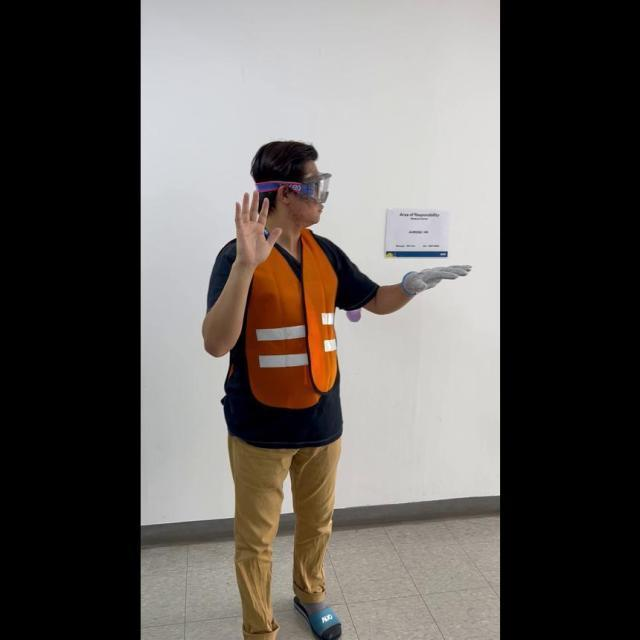bare_hand: (229, 184, 276, 266)
gloved_hand: (398, 255, 470, 296)
